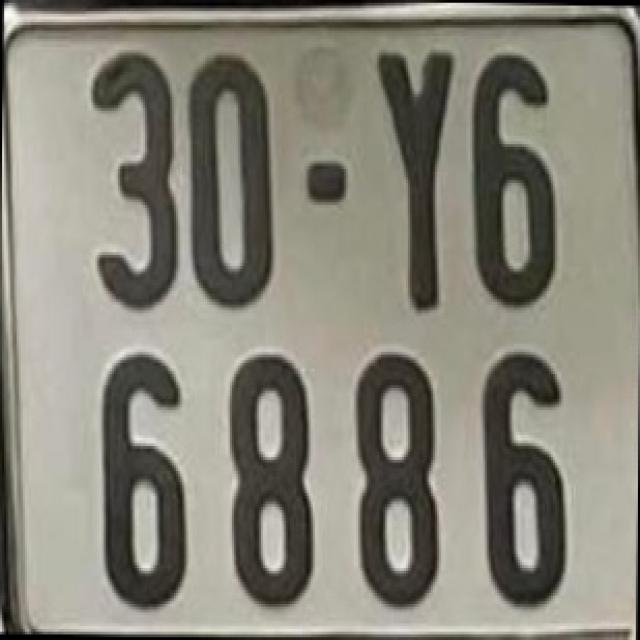0: (184, 47, 282, 313)
3: (87, 44, 180, 316)
6: (474, 344, 574, 612), (93, 347, 191, 612), (466, 44, 563, 310)
8: (222, 341, 319, 612), (350, 341, 447, 612)
Y: (376, 38, 459, 314)
